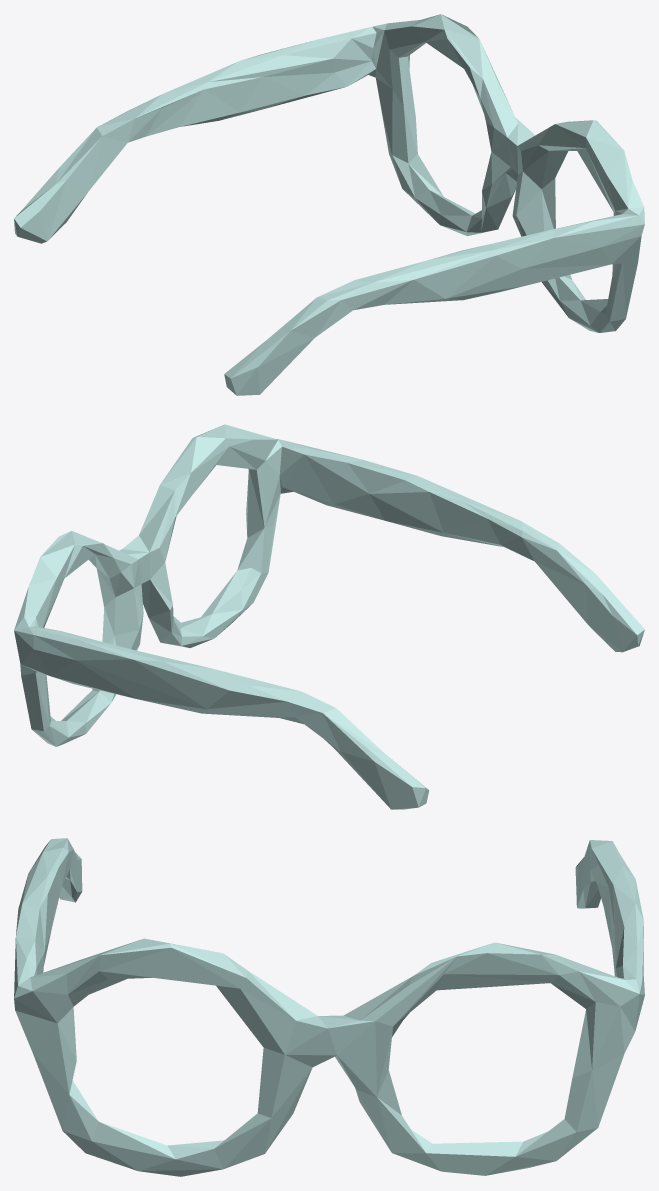
3 renders of one model, top to bottom at view 1: azimuth 30°, elevation 25°; view 2: azimuth 150°, elevation 25°; view 3: azimuth 270°, elevation 25°, orthographic. The views are drawn at different scales.
Visible parts, largest first — view 1: mesh; view 2: mesh; view 3: mesh.
Part boxes in pixels (box(x1,y1,x2,y2)): mesh: box(14, 14, 644, 395); mesh: box(14, 424, 644, 809); mesh: box(14, 838, 644, 1176).
Size of the model in its own units: 0.1824 by 0.084 by 0.2003.
